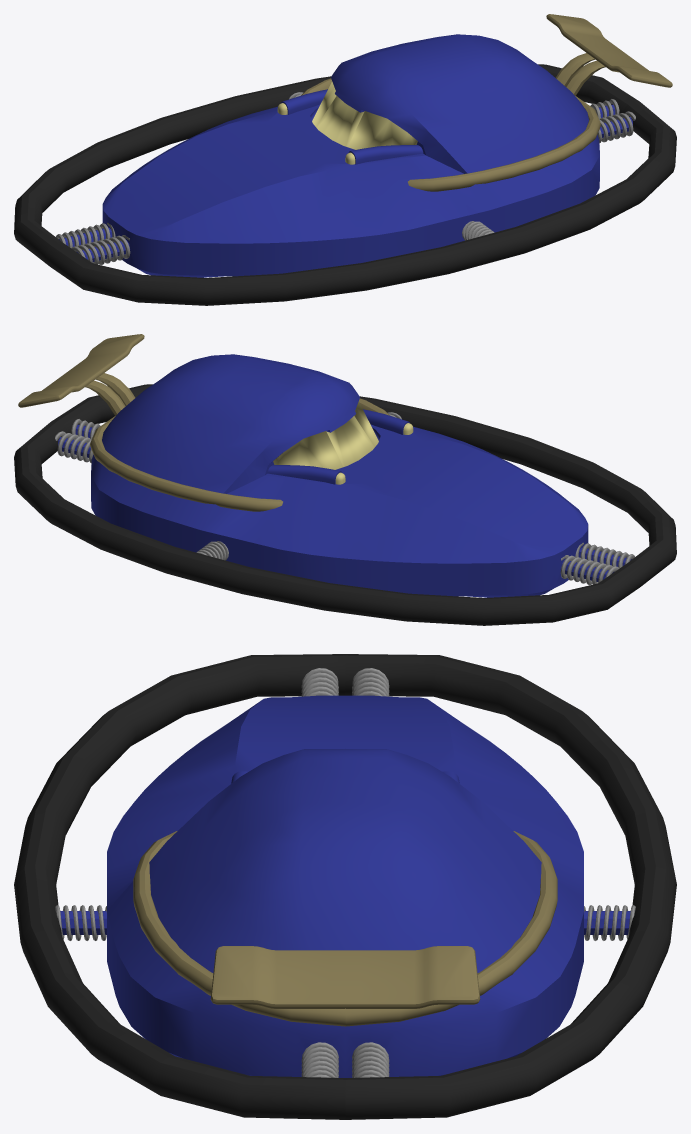
Rendered from CH_hover.fbx.
3 renders of one model, top to bottom at view 1: azimuth 30°, elevation 25°; view 2: azimuth 150°, elevation 25°; view 3: azimuth 270°, elevation 25°, orthographic. The views are drawn at different scales.
Visible parts, largest first — view 1: CH_hover; view 2: CH_hover; view 3: CH_hover.
Part boxes in pixels (x1,y1,x2,y2): CH_hover: (14, 14, 676, 305); CH_hover: (14, 334, 676, 625); CH_hover: (14, 654, 676, 1119).
Size of the model in its own units: 396 by 93 by 251.
